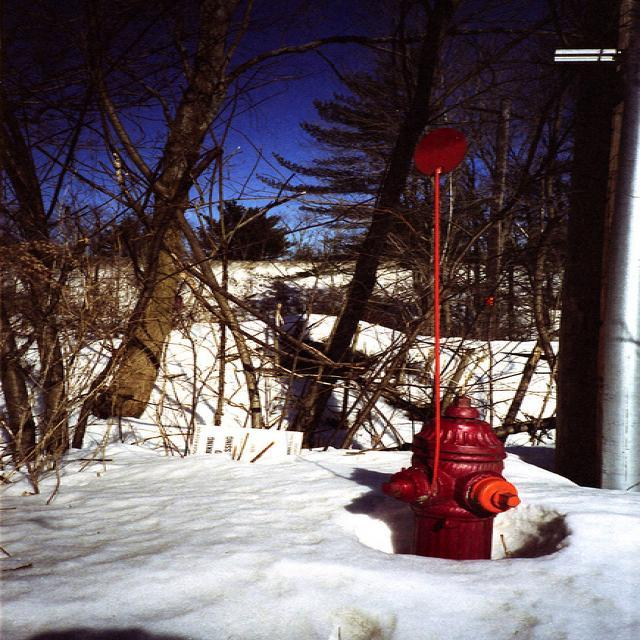fire_hydrant: (380, 127, 520, 559)
